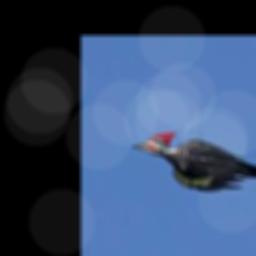Woodpecker: (132, 130, 256, 190)
